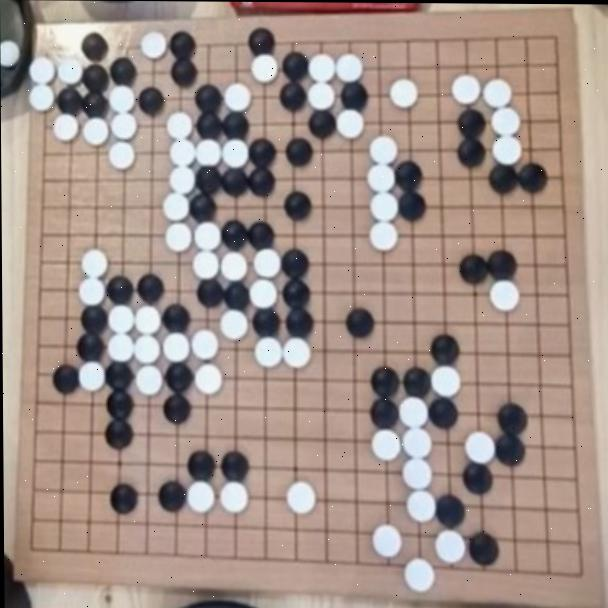corners: (542, 27, 567, 55), (22, 535, 48, 559), (39, 35, 61, 60), (568, 559, 590, 583)
